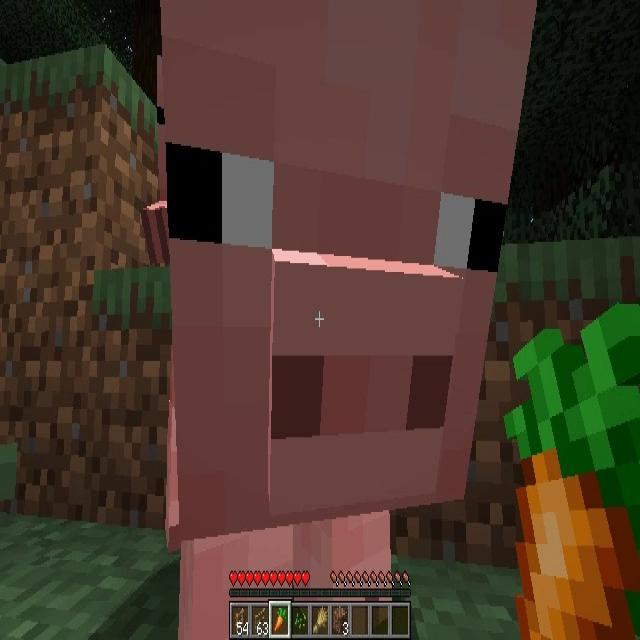pig: (158, 1, 536, 640)
